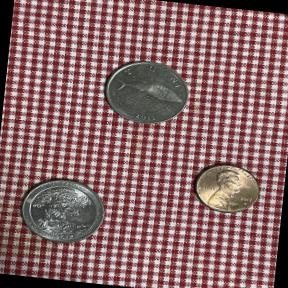Croatia-2Kune-B: (92, 53, 199, 137)
US-1cent-B: (186, 156, 268, 222)
US-25cent-B: (12, 172, 114, 252)
